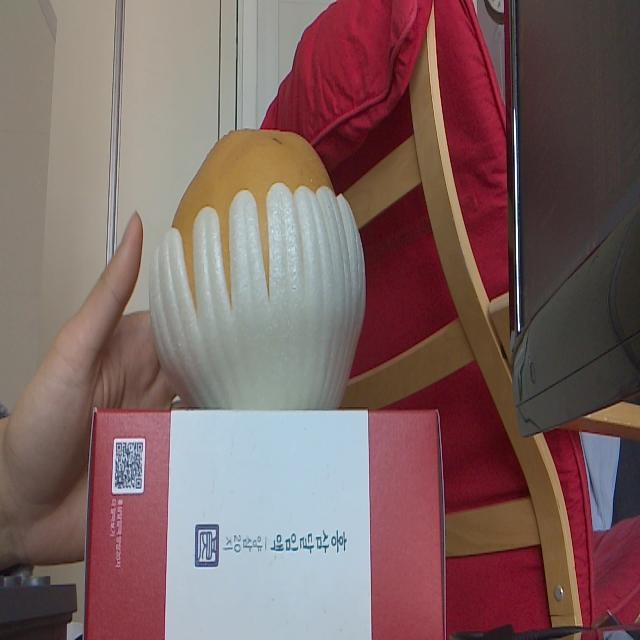pear: (153, 127, 366, 411)
